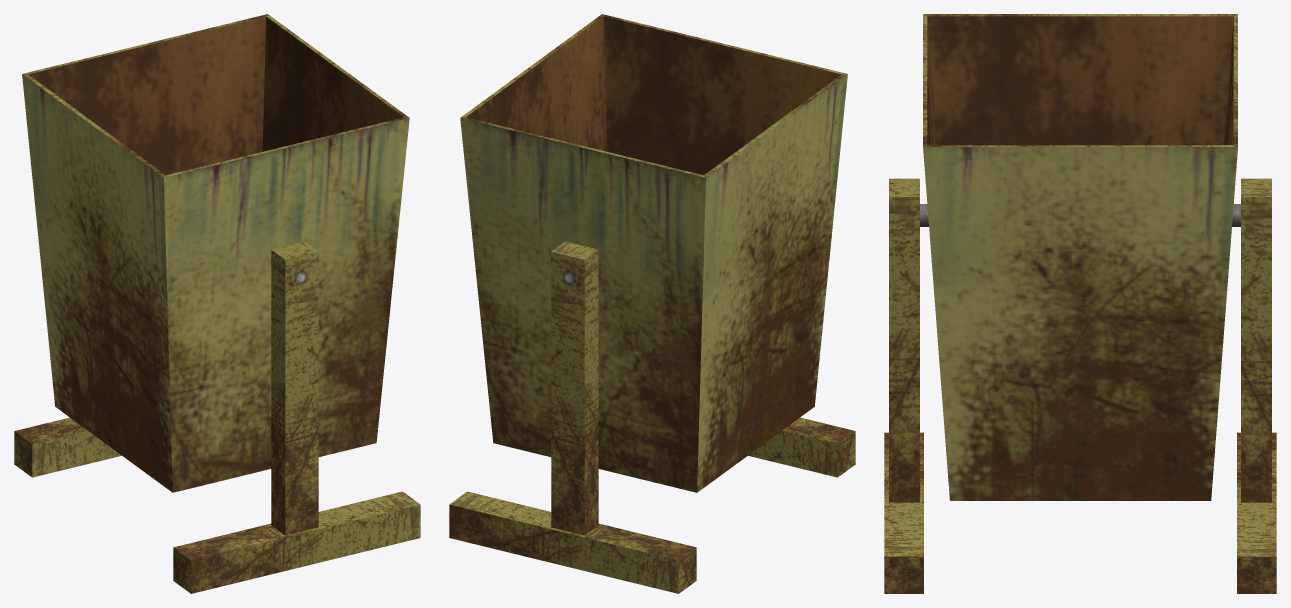
File: dustbin.FBX
3 renders of one model, left to right at view 1: azimuth 30°, elevation 25°; view 2: azimuth 150°, elevation 25°; view 3: azimuth 270°, elevation 25°, orthographic. The views are drawn at different scales.
Visible parts, largest first — view 1: dustbin; view 2: dustbin; view 3: dustbin.
Part boxes in pixels (x1=…): dustbin: x1=14, y1=14, x2=420, y2=593; dustbin: x1=449, y1=14, x2=855, y2=593; dustbin: x1=884, y1=14, x2=1276, y2=593.
Size of what is drawn, in the model's own units: 33.3 by 52.53 by 41.48.
